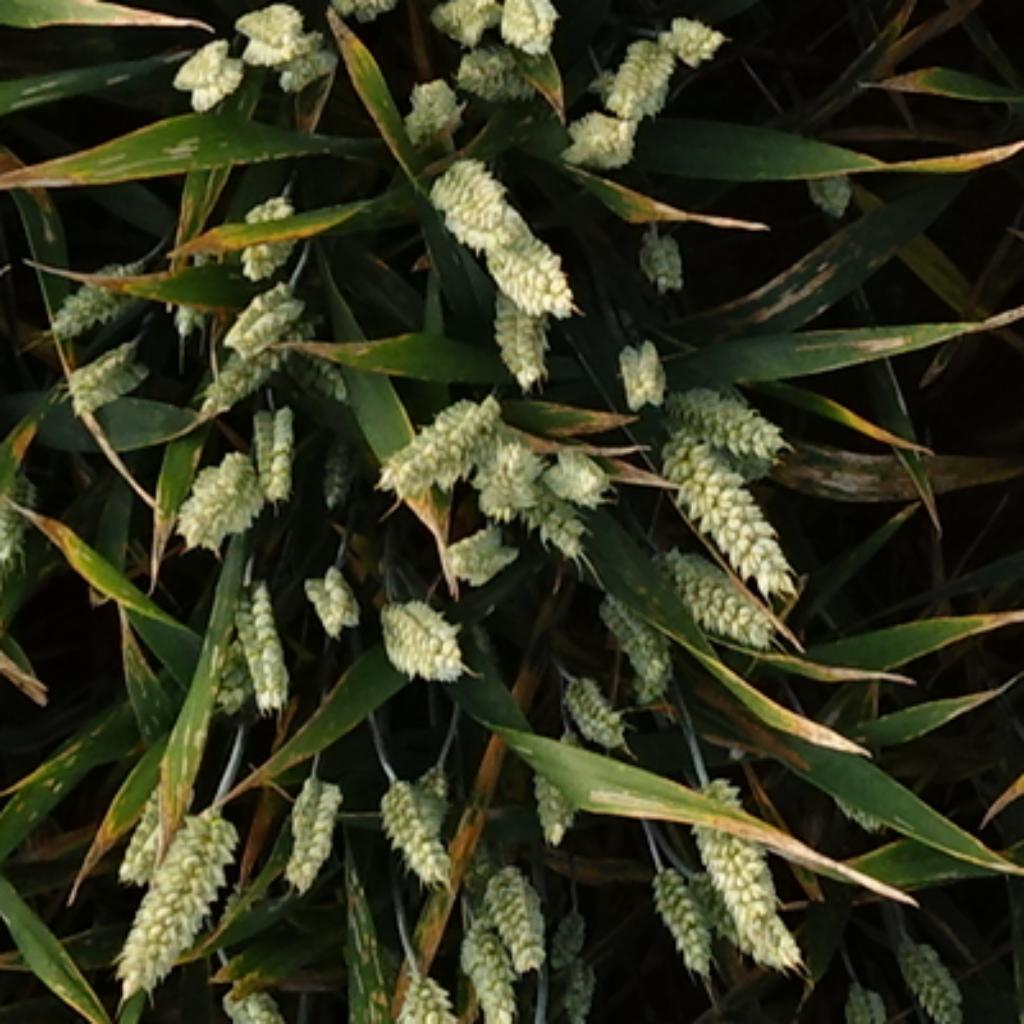0-0: (110, 801, 240, 1008), (688, 778, 811, 980), (652, 435, 796, 586), (640, 540, 783, 645), (419, 143, 542, 263), (378, 381, 504, 496), (166, 437, 281, 552), (652, 371, 785, 460), (368, 762, 460, 888), (120, 760, 202, 890), (468, 232, 586, 322), (680, 857, 770, 967), (230, 570, 294, 716), (371, 581, 468, 675), (471, 855, 550, 970), (509, 476, 609, 565), (451, 910, 528, 1024), (642, 855, 721, 965), (215, 276, 312, 363), (593, 581, 678, 678), (43, 261, 145, 340), (225, 194, 314, 283), (276, 765, 345, 878), (478, 427, 558, 524), (535, 724, 593, 857), (194, 340, 289, 419), (481, 299, 558, 396), (599, 20, 680, 112), (220, 0, 320, 74), (889, 934, 971, 1024), (61, 343, 156, 417), (284, 332, 360, 419), (527, 432, 609, 509), (174, 35, 250, 115), (243, 399, 299, 506), (552, 663, 629, 739), (158, 240, 212, 348), (453, 35, 547, 97), (266, 25, 343, 99), (560, 94, 640, 163), (437, 519, 517, 588), (381, 958, 463, 1024), (396, 66, 463, 145), (302, 563, 363, 642), (803, 153, 860, 232), (547, 949, 606, 1024), (607, 344, 666, 418), (629, 227, 691, 296), (212, 637, 258, 729), (317, 424, 358, 527), (542, 901, 591, 983), (832, 785, 898, 844), (655, 2, 724, 58), (491, 0, 558, 48), (407, 755, 455, 819), (215, 872, 263, 926), (220, 990, 295, 1024), (832, 977, 885, 1024), (430, 0, 499, 35), (322, 0, 412, 25)
